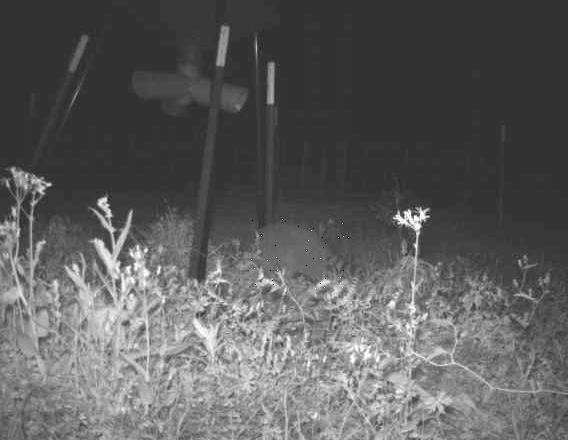Raccoon: (246, 219, 348, 292)
